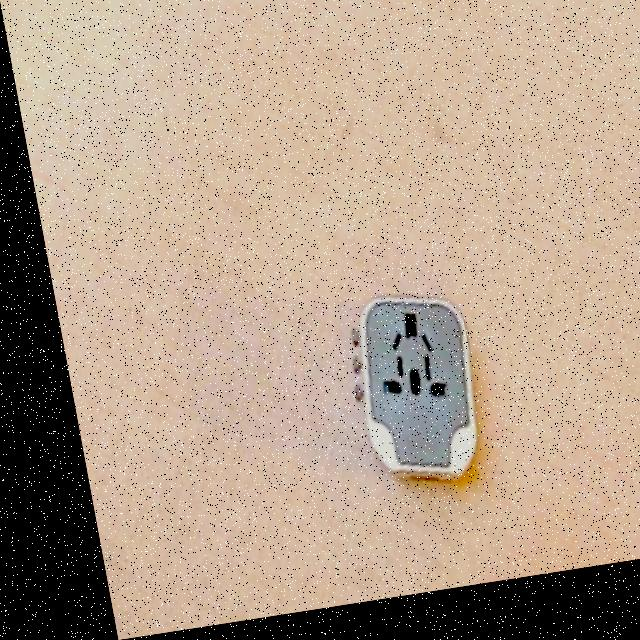adapter: (324, 295, 471, 499)
